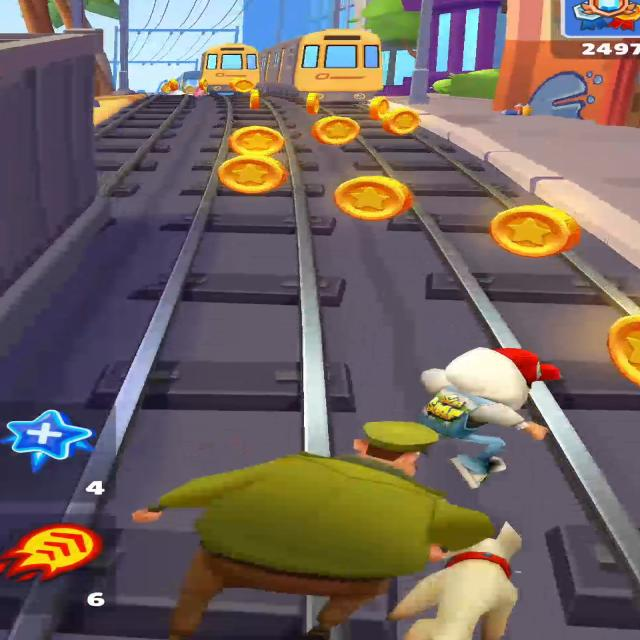police: (150, 412, 491, 626)
train: (0, 17, 104, 341), (259, 29, 383, 103), (201, 42, 266, 94)
